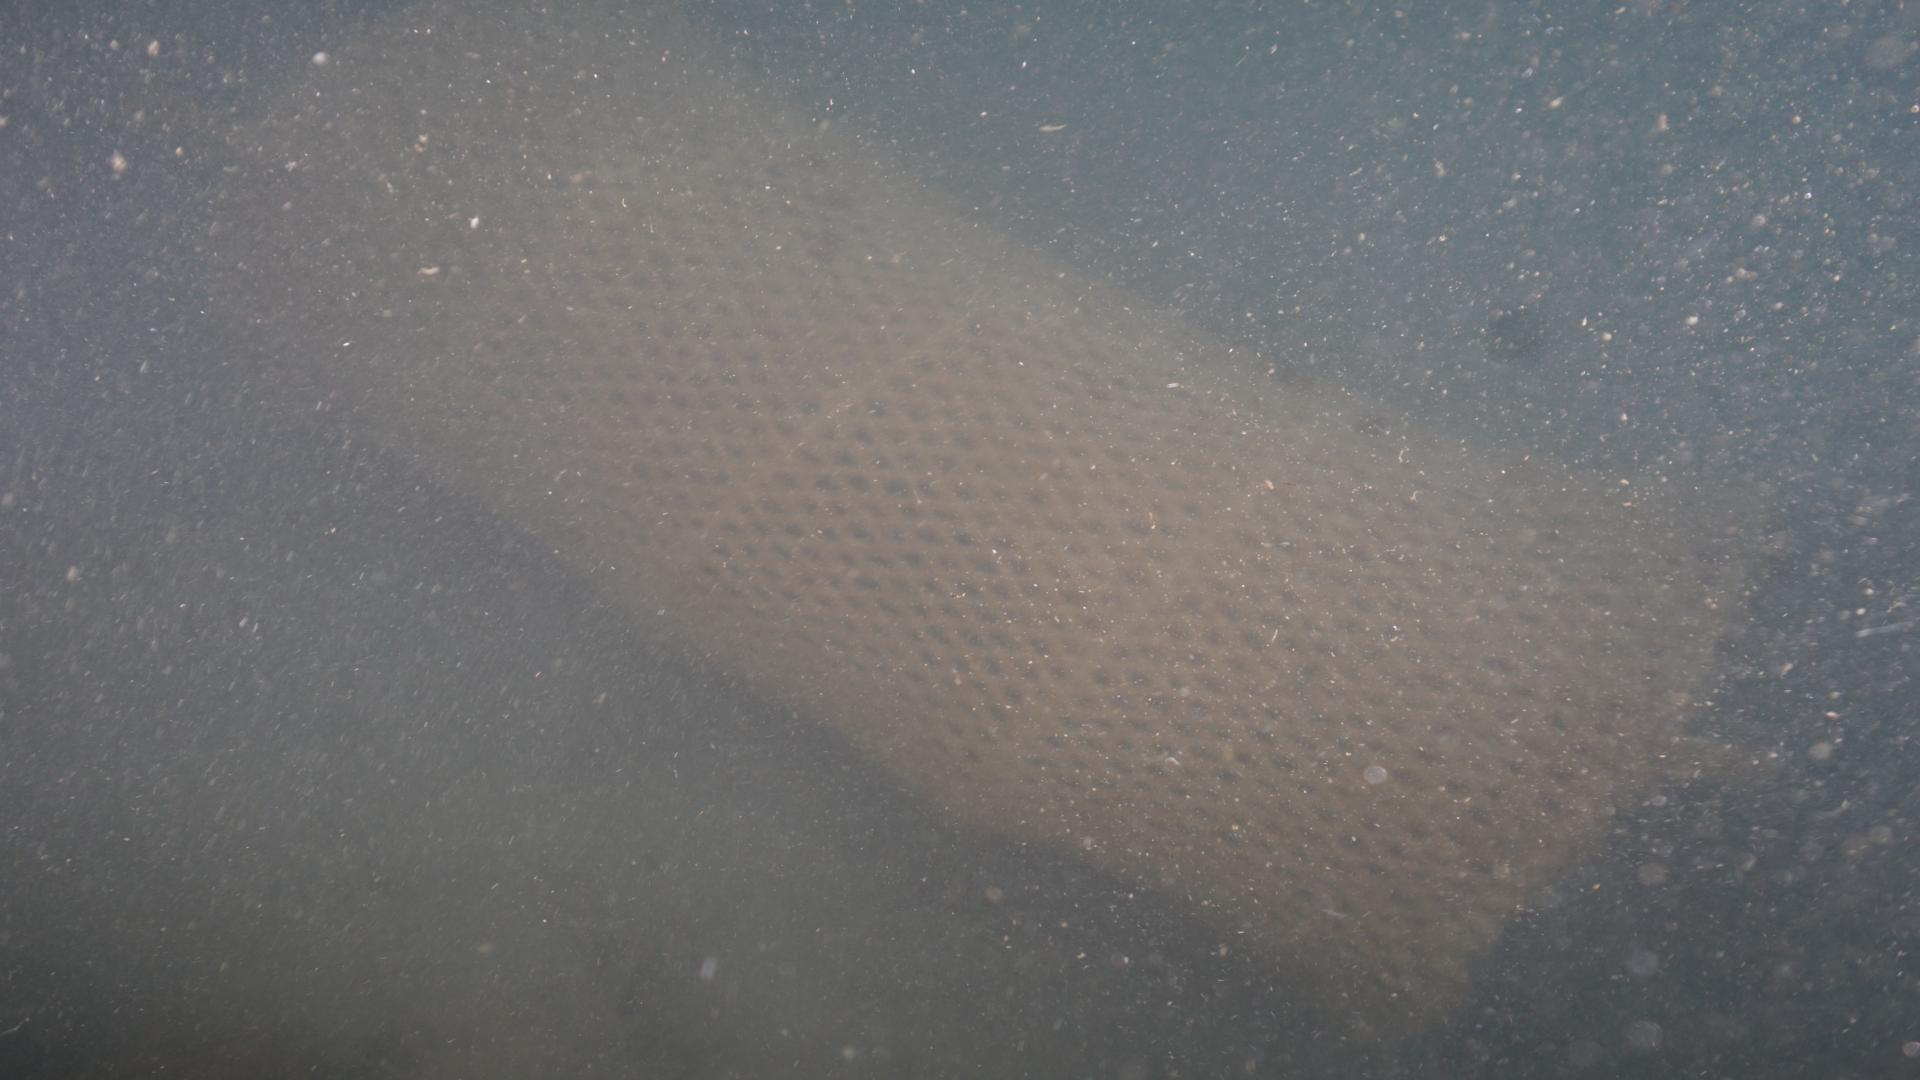spring fish trap: (182, 5, 1770, 1059)
